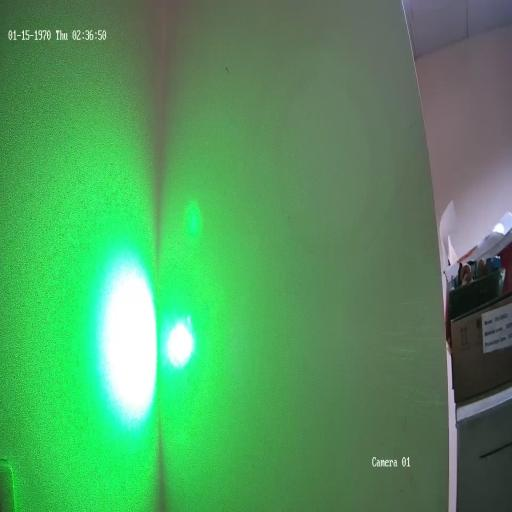laser: (161, 300, 200, 380)
